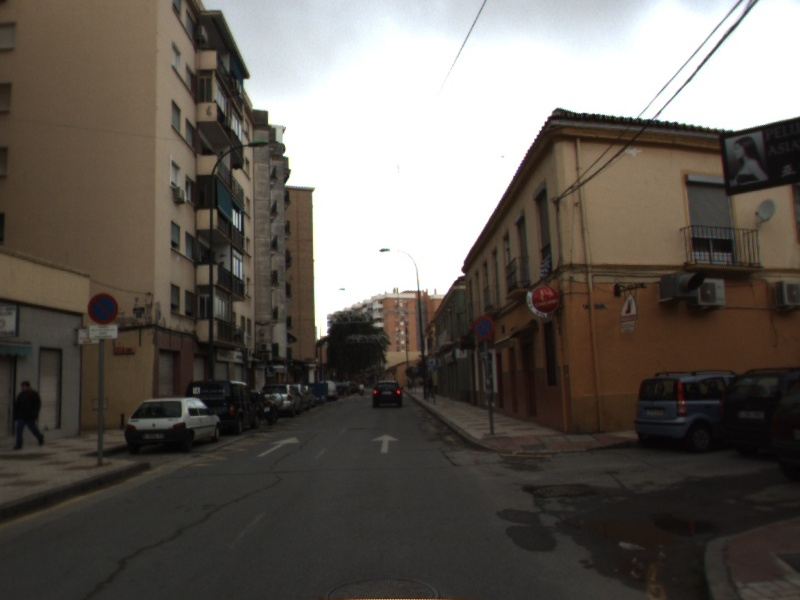STRAIGHT: (254, 435, 302, 459), (369, 432, 402, 455)
